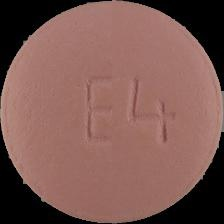61919-007: (0, 0, 224, 224)
